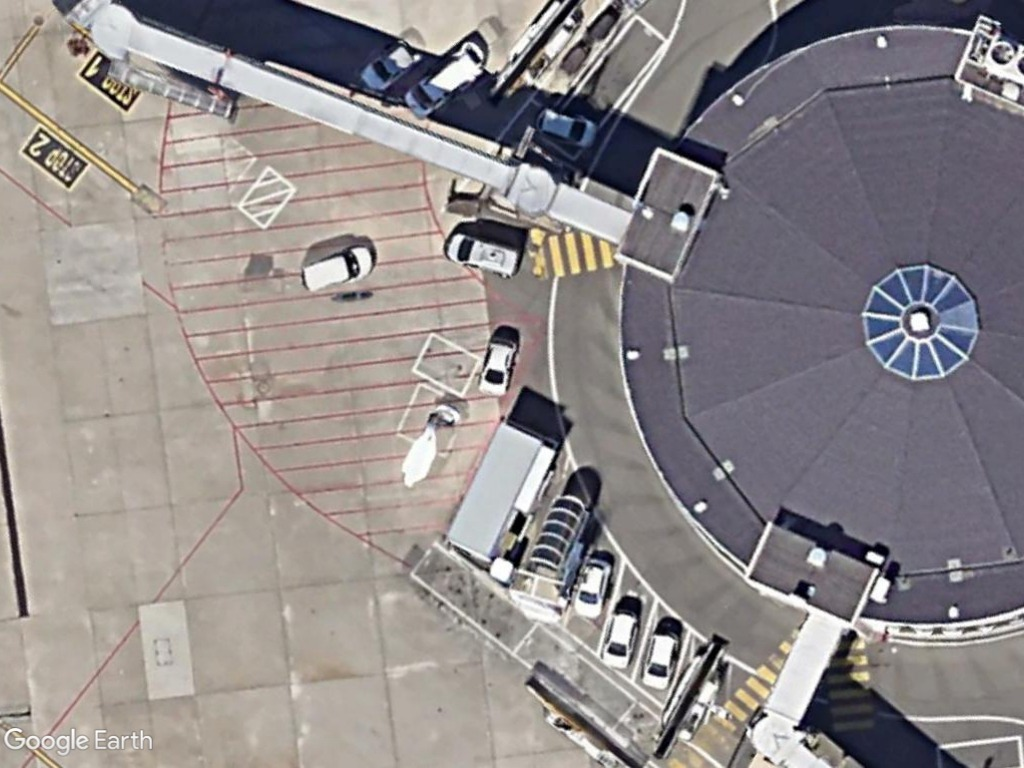car: (359, 34, 425, 95), (533, 101, 601, 151), (473, 338, 521, 399), (571, 555, 614, 621), (598, 609, 642, 672), (638, 630, 679, 694)
van: (297, 242, 377, 298), (446, 228, 527, 280)
